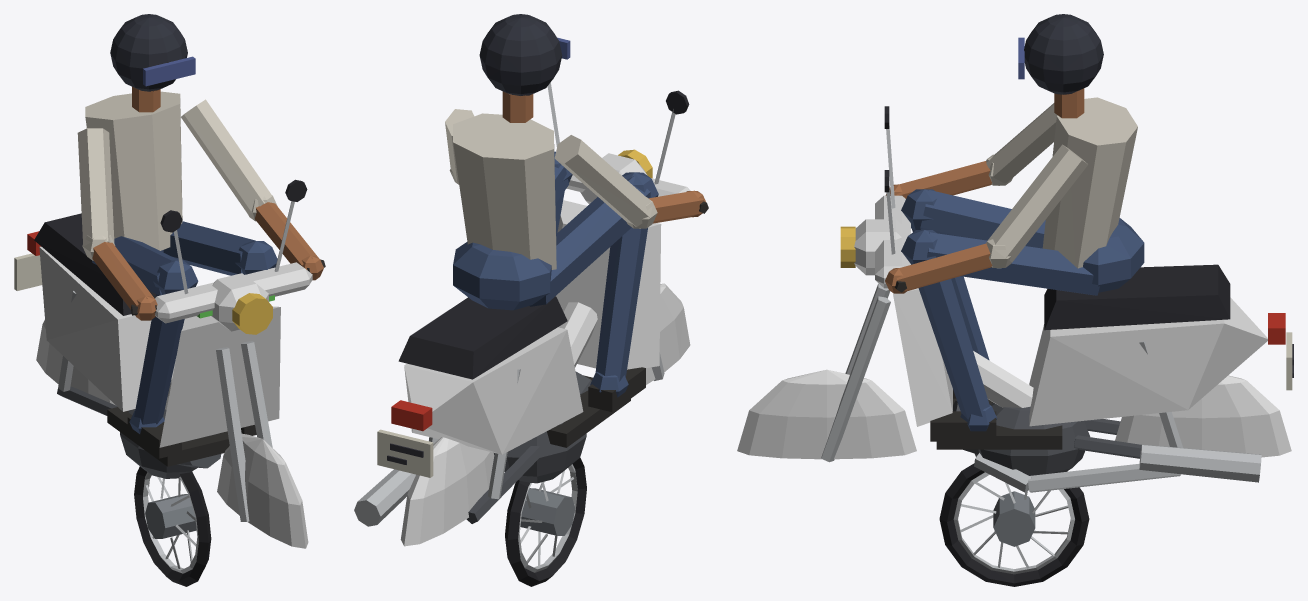
The model's file is ev_scooter.glb.
3 renders of one model, left to right at view 1: azimuth 30°, elevation 25°; view 2: azimuth 150°, elevation 25°; view 3: azimuth 270°, elevation 25°, orthographic. The views are drawn at different scales.
Visible parts, largest first — view 1: body, paint, wheel0, lights; view 2: body, paint, wheel0, lights; view 3: body, paint, wheel0, lights.
Boxes of the visible parts, left/top/right/bottom form: body: left=14, top=14, right=325, bottom=521; paint: left=36, top=246, right=312, bottom=548; wheel0: left=134, top=466, right=211, bottom=586; lights: left=27, top=231, right=274, bottom=334; body: left=354, top=14, right=708, bottom=526; paint: left=400, top=153, right=690, bottom=546; wheel0: left=505, top=458, right=586, bottom=586; lights: left=391, top=149, right=652, bottom=431; body: left=821, top=14, right=1293, bottom=492; paint: left=737, top=195, right=1291, bottom=459; wheel0: left=939, top=463, right=1089, bottom=586; lights: left=840, top=226, right=1285, bottom=344.
Bounding box in the file's own units: 0.7735 × 2.09 × 1.86.
